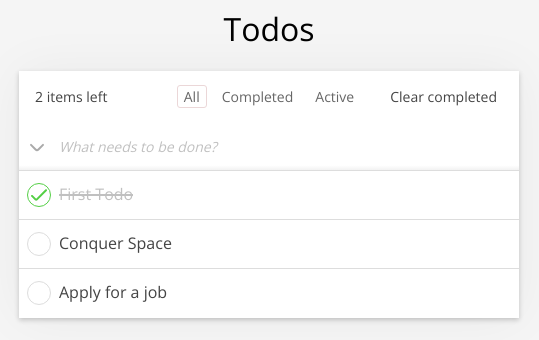
Test case: App › удаляет выполненные задачи по клику на кнопку
Click the button "Clear completed" at [432, 97], box [361,86,503,107]
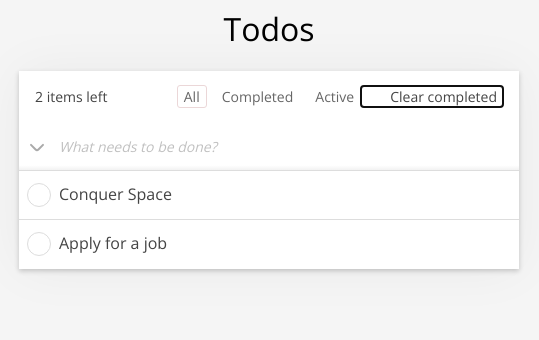
Check: the number of list items with test id "todo" is 2, box [19,171,519,220]; [27,232,167,256]
